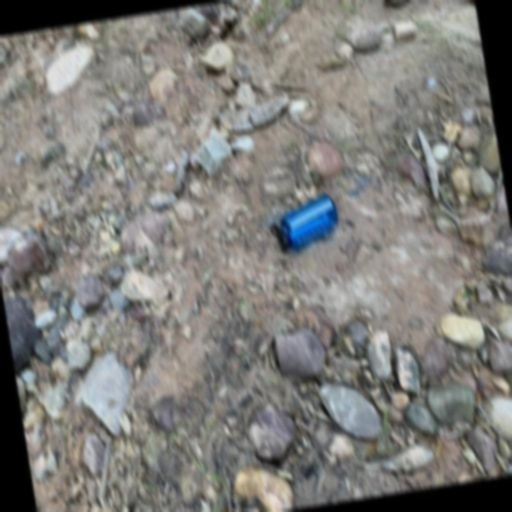bottle: (267, 192, 342, 253)
